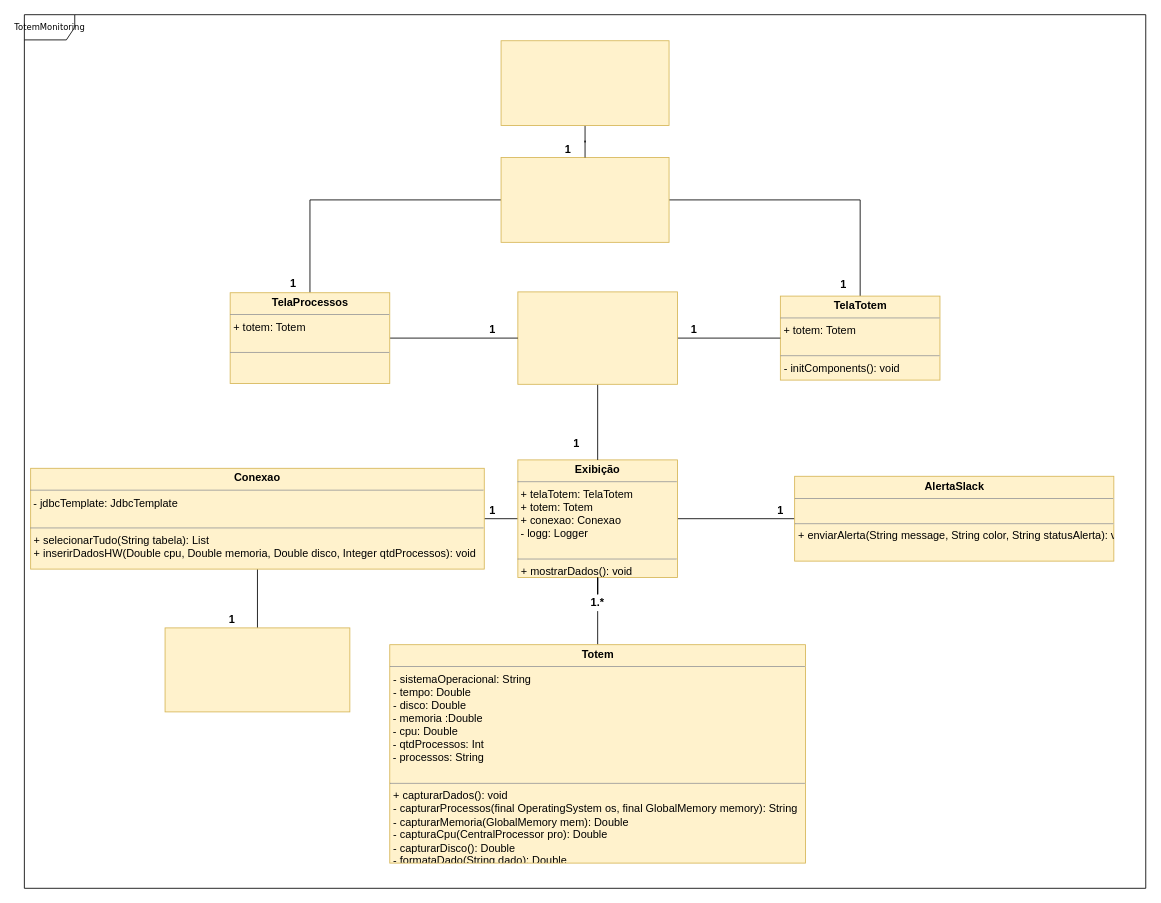
This 1161x903 diagram has some shape labels left out. The centre of each missing label's shape, as x and y in pixels:
ConexaoVO - dataSource: BasicDataSource + criarConexao(): void: [257,669]
Initializer + start(): void: [584,199]
Refresh + exibicao : Exibicao + totem : Totem + iniciar(): void: [597,337]
TelaLogin - conexaoLogin: Conexao - initComponents(): void: [584,83]
